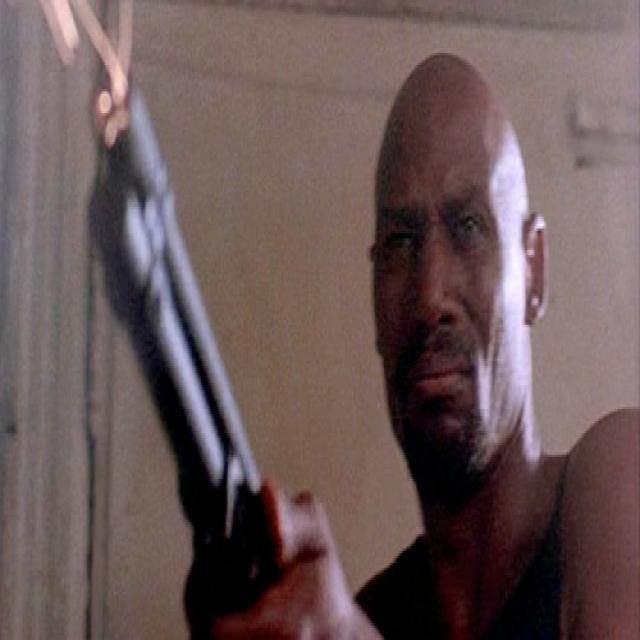rifle: (93, 84, 280, 640)
